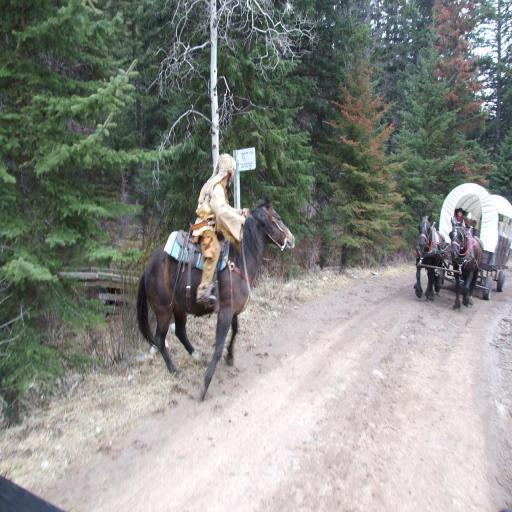horse: (135, 192, 297, 400), (448, 217, 482, 312), (414, 210, 448, 302)
